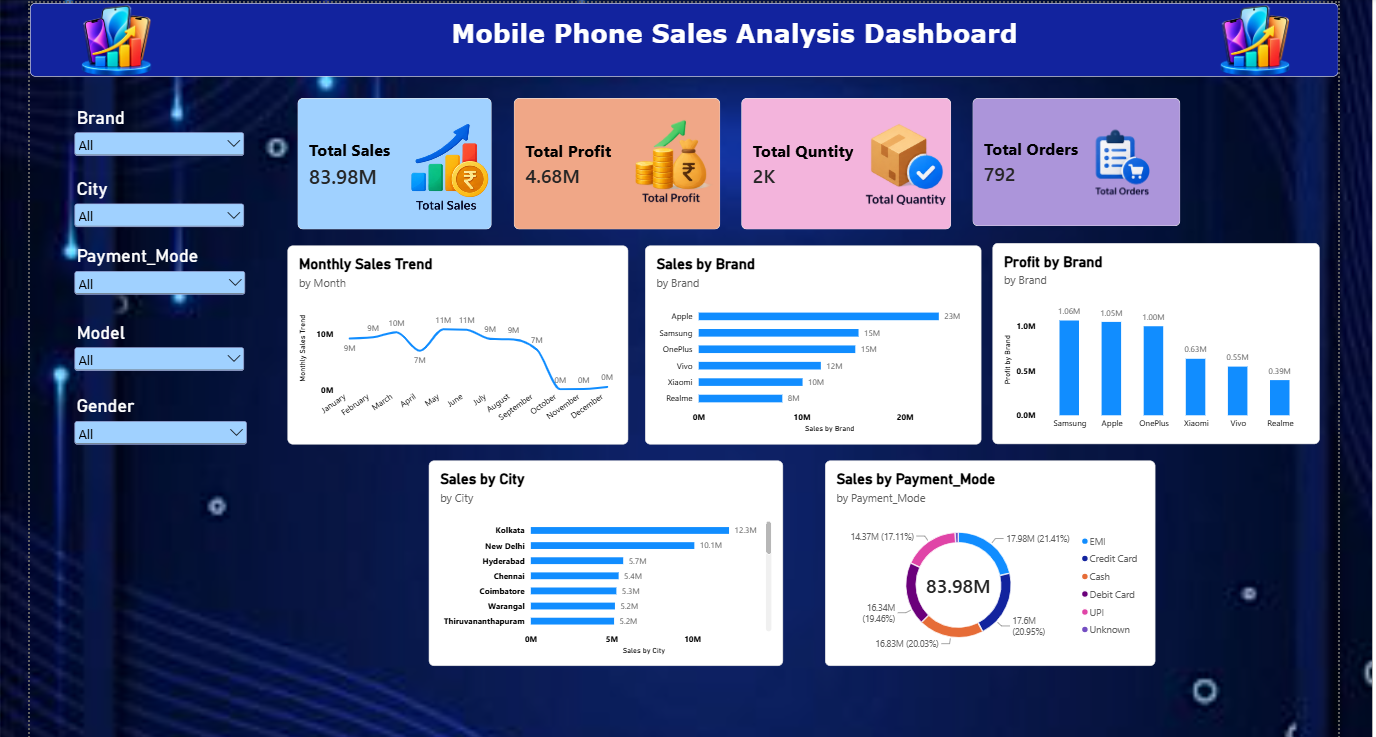

The dashboard page shown, as its layout file describes it:
{"tool":"powerbi","page":{"name":"DASHBOARD","canvas":[1920,1080],"ordinal":1},"visuals":[{"type":"textbox","box":[0,0,1920,108.3],"z":0},{"type":"cardVisual","fields":{"Data":["Sheet1.Total Orders"]},"box":[1383.3,140,305,188.3],"z":1000},{"type":"cardVisual","fields":{"Data":["Sheet1.Total Profit"]},"box":[710,140,303.3,193.3],"z":2000},{"type":"cardVisual","fields":{"Data":["Sheet1.Total Sales"]},"box":[391.7,140,285,193.3],"z":3000},{"type":"cardVisual","fields":{"Data":["Sheet1.Total Quntity"]},"box":[1043.3,140,308.3,193.3],"z":4000},{"type":"lineChart","fields":{"Category":["Sheet1.Order_Date.Variation.Date Hierarchy.Month"],"Y":["Sheet1.Total Sales"]},"box":[378.3,355,500,291.7],"z":5000},{"type":"clusteredBarChart","fields":{"Category":["Sheet1.Brand"],"Y":["Sheet1.Total Sales"]},"box":[903.3,355,493.3,291.7],"z":6000},{"type":"columnChart","fields":{"Category":["Sheet1.Brand"],"Y":["Sheet1.Total Profit"]},"box":[1411.7,351.7,480,295],"z":7000},{"type":"clusteredBarChart","fields":{"Category":["Sheet1.City"],"Y":["Sheet1.Total Sales"]},"box":[585,671.7,520,301.7],"z":8000},{"type":"donutChart","fields":{"Category":["Sheet1.Payment_Mode"],"Y":["Sheet1.Total Sales"]},"box":[1166.7,671.7,485,301.7],"z":9000},{"type":"slicer","fields":{"Values":["Sheet1.Brand"]},"box":[60,151.7,258.3,138.3],"z":10000},{"type":"slicer","fields":{"Values":["Sheet1.City"]},"box":[60,256.7,258.3,141.7],"z":11000},{"type":"slicer","fields":{"Values":["Sheet1.Model"]},"box":[60.5,467.7,258.6,143.1],"z":12000},{"type":"slicer","fields":{"Values":["Sheet1.Gender"]},"box":[60.5,576,262.3,106.4],"z":13000},{"type":"slicer","fields":{"Values":["Sheet1.Payment_Mode"]},"box":[60.5,355.8,260.5,119.2],"z":14000},{"type":"image","box":[1536.7,156.7,138.3,148.3],"z":16000},{"type":"image","box":[535,168.3,141.7,136.7],"z":17000},{"type":"image","box":[845,156.7,168.3,148.3],"z":18000},{"type":"image","box":[1198.3,151.7,170,153.3],"z":19000},{"type":"image","box":[23.3,0,205,108.3],"z":20000},{"type":"image","box":[1675,0,245,108.3],"z":21000}]}

Visuals, with their boxes on the page's 1920x1080 design canvas (x1, y1, x2, y2). These are canvas units, not pixel positions in the 1376x737 screenshot, which may show the page scaled, cropped or inside an application window:
textbox: [0, 0, 1920, 108]
cardVisual - Sheet1.Total Orders: [1383, 140, 1688, 328]
cardVisual - Sheet1.Total Profit: [710, 140, 1013, 333]
cardVisual - Sheet1.Total Sales: [392, 140, 677, 333]
cardVisual - Sheet1.Total Quntity: [1043, 140, 1352, 333]
lineChart - Sheet1.Order_Date.Variation.Date Hierarchy.Month x Sheet1.Total Sales: [378, 355, 878, 647]
clusteredBarChart - Sheet1.Brand x Sheet1.Total Sales: [903, 355, 1397, 647]
columnChart - Sheet1.Brand x Sheet1.Total Profit: [1412, 352, 1892, 647]
clusteredBarChart - Sheet1.City x Sheet1.Total Sales: [585, 672, 1105, 973]
donutChart - Sheet1.Payment_Mode x Sheet1.Total Sales: [1167, 672, 1652, 973]
slicer - Sheet1.Brand: [60, 152, 318, 290]
slicer - Sheet1.City: [60, 257, 318, 398]
slicer - Sheet1.Model: [60, 468, 319, 611]
slicer - Sheet1.Gender: [60, 576, 323, 682]
slicer - Sheet1.Payment_Mode: [60, 356, 321, 475]
image: [1537, 157, 1675, 305]
image: [535, 168, 677, 305]
image: [845, 157, 1013, 305]
image: [1198, 152, 1368, 305]
image: [23, 0, 228, 108]
image: [1675, 0, 1920, 108]
